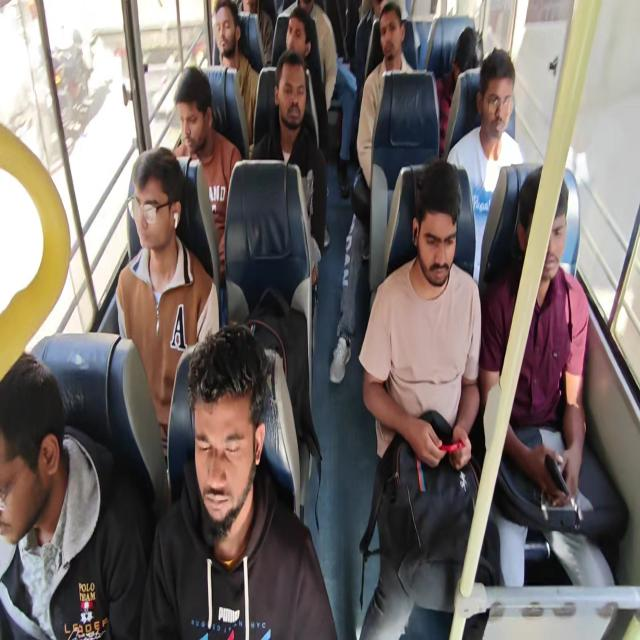person: (180, 323, 287, 640), (0, 330, 101, 635), (132, 157, 203, 305), (405, 170, 476, 312), (509, 144, 568, 298), (177, 63, 235, 186), (485, 58, 536, 171), (276, 59, 311, 154), (456, 34, 494, 95), (333, 0, 362, 76), (287, 0, 333, 44), (282, 27, 317, 80), (210, 7, 238, 68), (380, 8, 407, 62), (241, 1, 267, 20), (370, 0, 391, 19)
